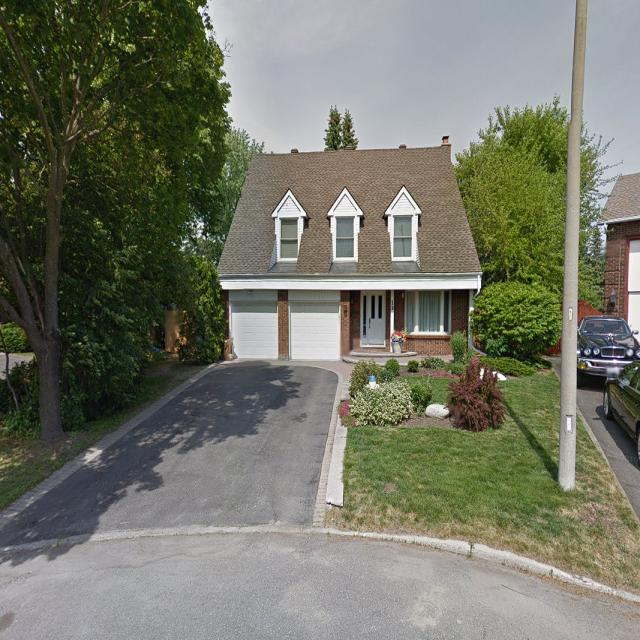Door: (359, 290, 387, 349)
curb: (2, 523, 634, 607)
obstacle: (558, 0, 588, 488), (343, 360, 502, 434)
walkways: (0, 367, 337, 550)
